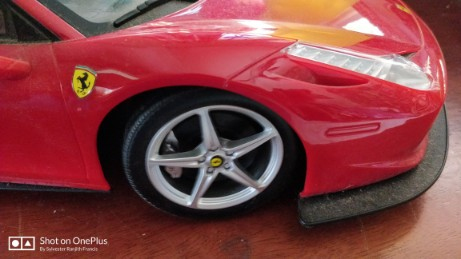unaligned_wheel: (107, 81, 307, 228)
